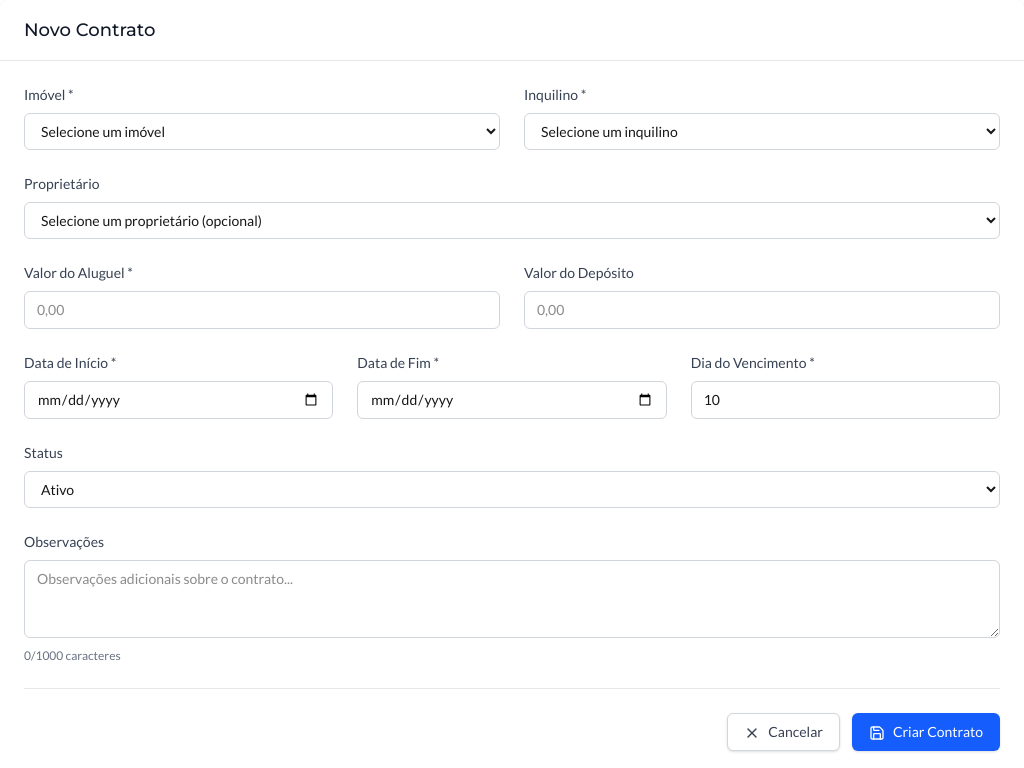
ContratoForm › limits observations text length
Expected: the text "0/1000 caracteres" is shown, [24,648,121,663]
// Type some text
Type "Test observation" into the text box with placeholder "Observações adicionais sobre o contrato..." at (512, 599), box [24,560,1000,638]
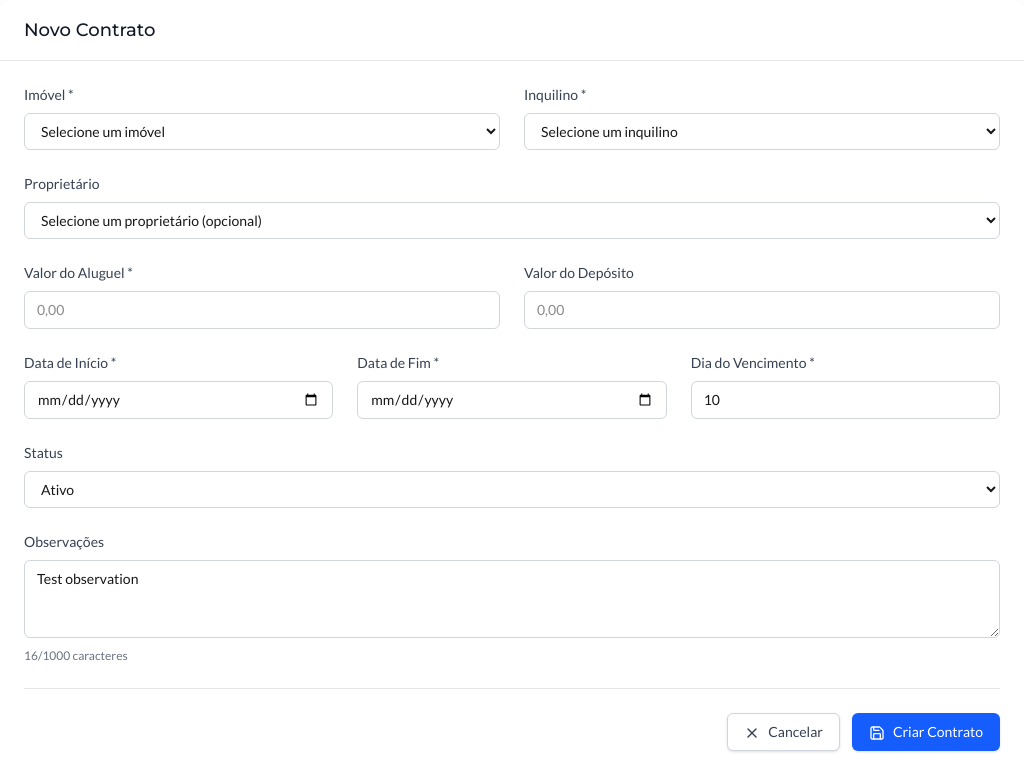
Expected: the text "16/1000 caracteres" is shown, [24,648,128,663]
